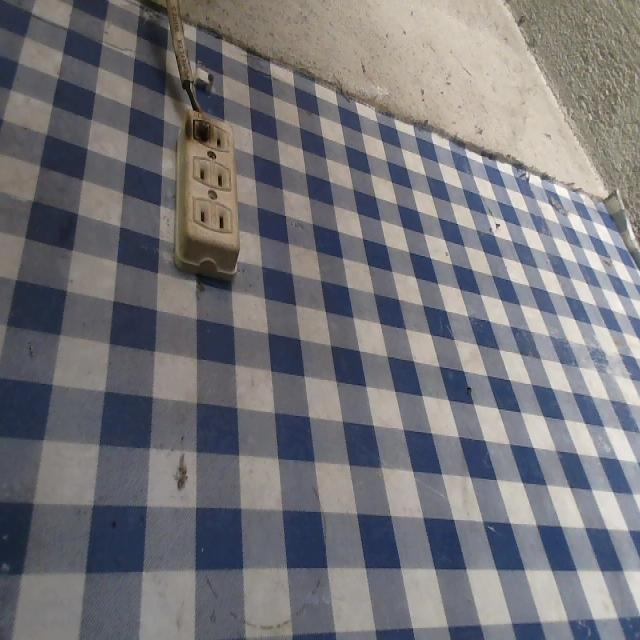-: (180, 107, 214, 152)
